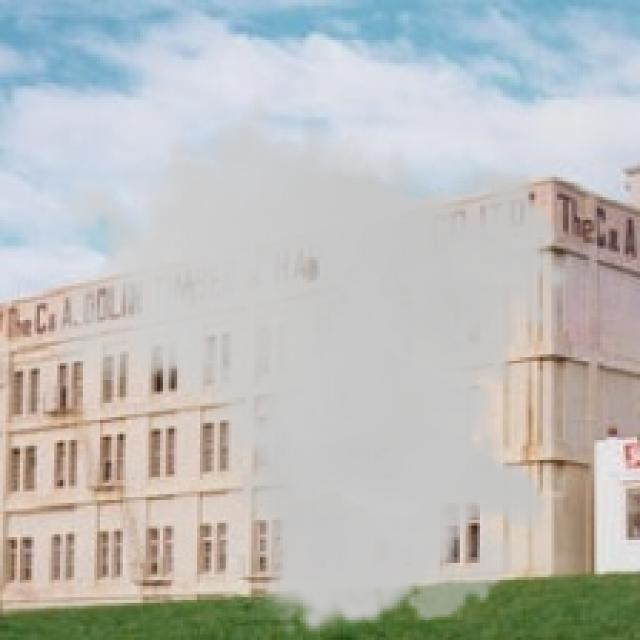Smoke: (49, 72, 572, 638)
